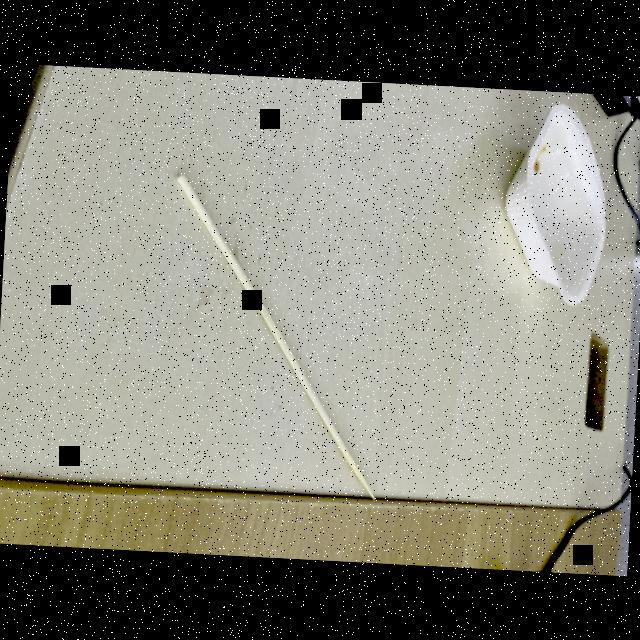cardboard_bowl: (469, 98, 621, 315)
stick: (127, 160, 401, 510)
